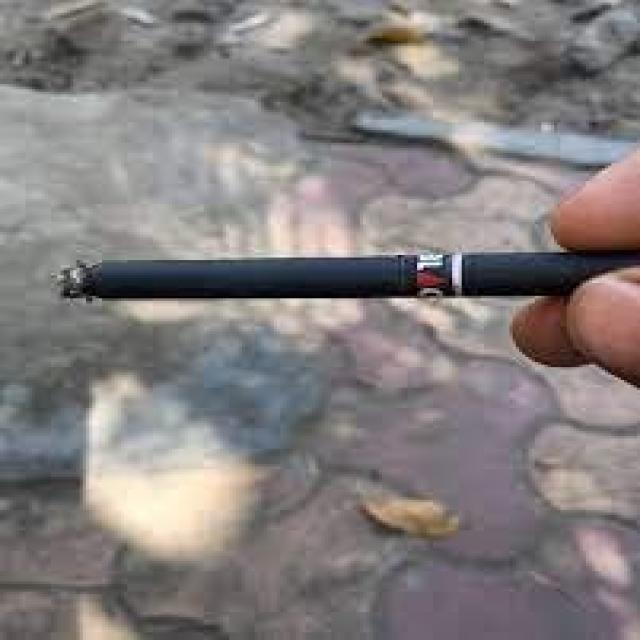cigarette: (64, 252, 637, 301)
